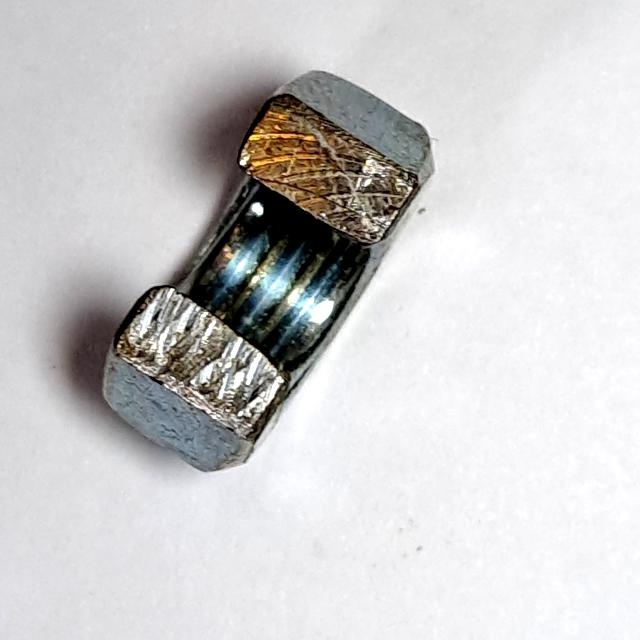Side-Fracture: (94, 55, 441, 480)
